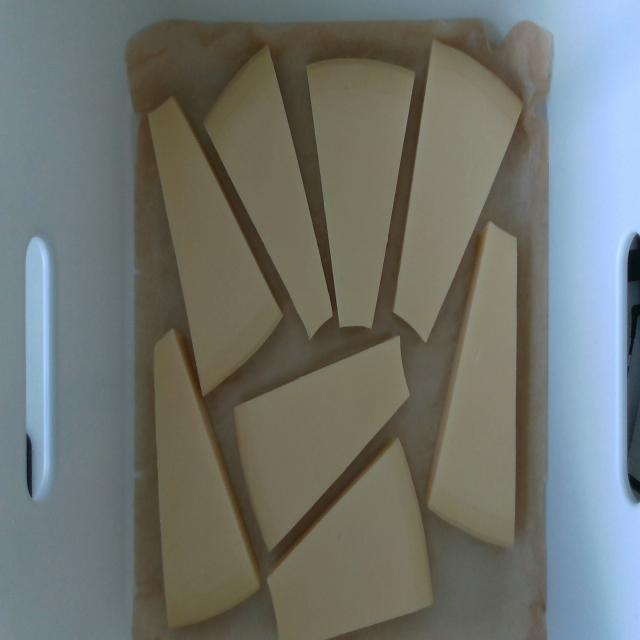Cheese: (393, 39, 524, 343), (148, 96, 281, 394), (234, 335, 410, 554), (205, 45, 334, 340), (270, 439, 432, 639), (155, 331, 260, 627), (427, 220, 516, 546), (308, 60, 415, 328)
